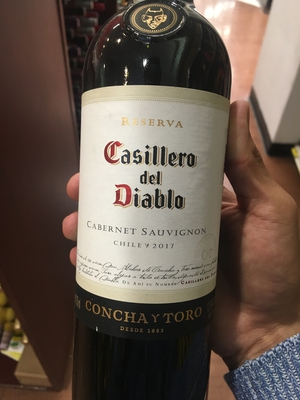casillero del diablo cabernet sauvignon: (72, 10, 228, 400)
